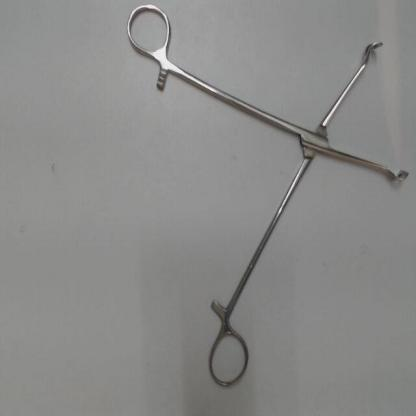8 Babcock Tissue Forceps: (120, 2, 415, 396)
